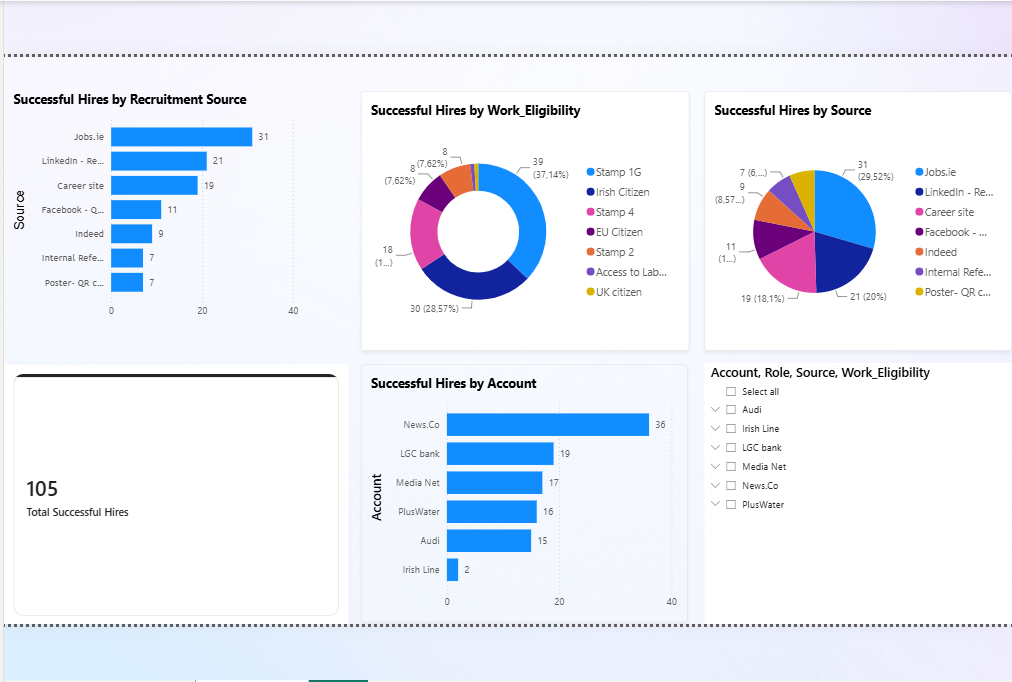

Layout of this report page (visuals, bound fields, positions):
{"tool":"powerbi","page":{"name":"Page 1","canvas":[1280,720],"ordinal":0},"visuals":[{"type":"clusteredBarChart","title":"Successful Hires by Recruitment Source","fields":{"Category":["Recruitment_Source_Effectiveness.Source"],"Y":["CountNonNull(Recruitment_Source_Effectiveness.Candidate_ID)"]},"box":[0,30.3,386.1,316.1],"z":0},{"type":"cardVisual","title":"Total Successful Hires","fields":{"Data":["CountNonNull(Recruitment_Source_Effectiveness.Candidate_ID)"]},"box":[0,389.9,437.2,331.2],"z":1000},{"type":"clusteredBarChart","title":"Successful Hires by Account","fields":{"Category":["Recruitment_Source_Effectiveness.Account"],"Y":["CountNonNull(Recruitment_Source_Effectiveness.Candidate_ID)"]},"box":[452.3,389.9,414.5,327.4],"z":2000},{"type":"donutChart","title":"Successful Hires by Work_Eligibility","fields":{"Category":["Recruitment_Source_Effectiveness.Work_Eligibility"],"Y":["CountNonNull(Recruitment_Source_Effectiveness.Candidate_ID)"]},"box":[452.3,43.5,416.4,329.3],"z":3000},{"type":"pieChart","title":"Successful Hires by Source","fields":{"Category":["Recruitment_Source_Effectiveness.Source"],"Y":["CountNonNull(Recruitment_Source_Effectiveness.Candidate_ID)"]},"box":[889.5,43.5,389.9,329.3],"z":4000},{"type":"slicer","fields":{"Values":["Recruitment_Source_Effectiveness.Account","Recruitment_Source_Effectiveness.Role","Recruitment_Source_Effectiveness.Source","Recruitment_Source_Effectiveness.Work_Eligibility"]},"box":[889.5,388,389.9,331.2],"z":5000}]}

Visuals, with their boxes in screenshot pixels (x1, y1, x2, y2):
"Successful Hires by Recruitment Source" clusteredBarChart: select_region(90, 104, 380, 342)
"Total Successful Hires" cardVisual: select_region(90, 375, 418, 624)
"Successful Hires by Account" clusteredBarChart: select_region(430, 375, 741, 621)
"Successful Hires by Work_Eligibility" donutChart: select_region(430, 114, 743, 362)
"Successful Hires by Source" pieChart: select_region(759, 114, 1011, 362)
slicer - Recruitment_Source_Effectiveness.Account x Recruitment_Source_Effectiveness.Role: select_region(759, 373, 1011, 623)
